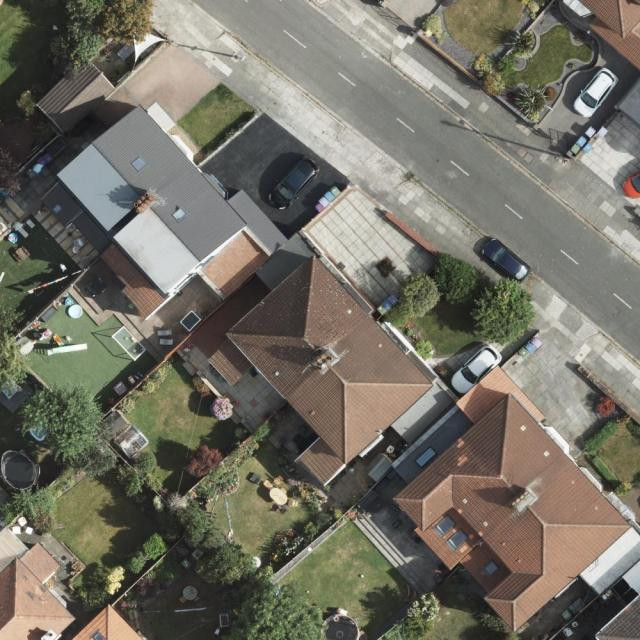roof: (56, 99, 640, 640), (0, 524, 78, 640), (35, 58, 117, 140), (556, 0, 640, 75), (68, 604, 144, 640)
skylight: (412, 447, 438, 470), (447, 528, 470, 551), (434, 515, 456, 538), (129, 152, 150, 174), (170, 206, 189, 223), (484, 559, 500, 578), (92, 631, 107, 640)
